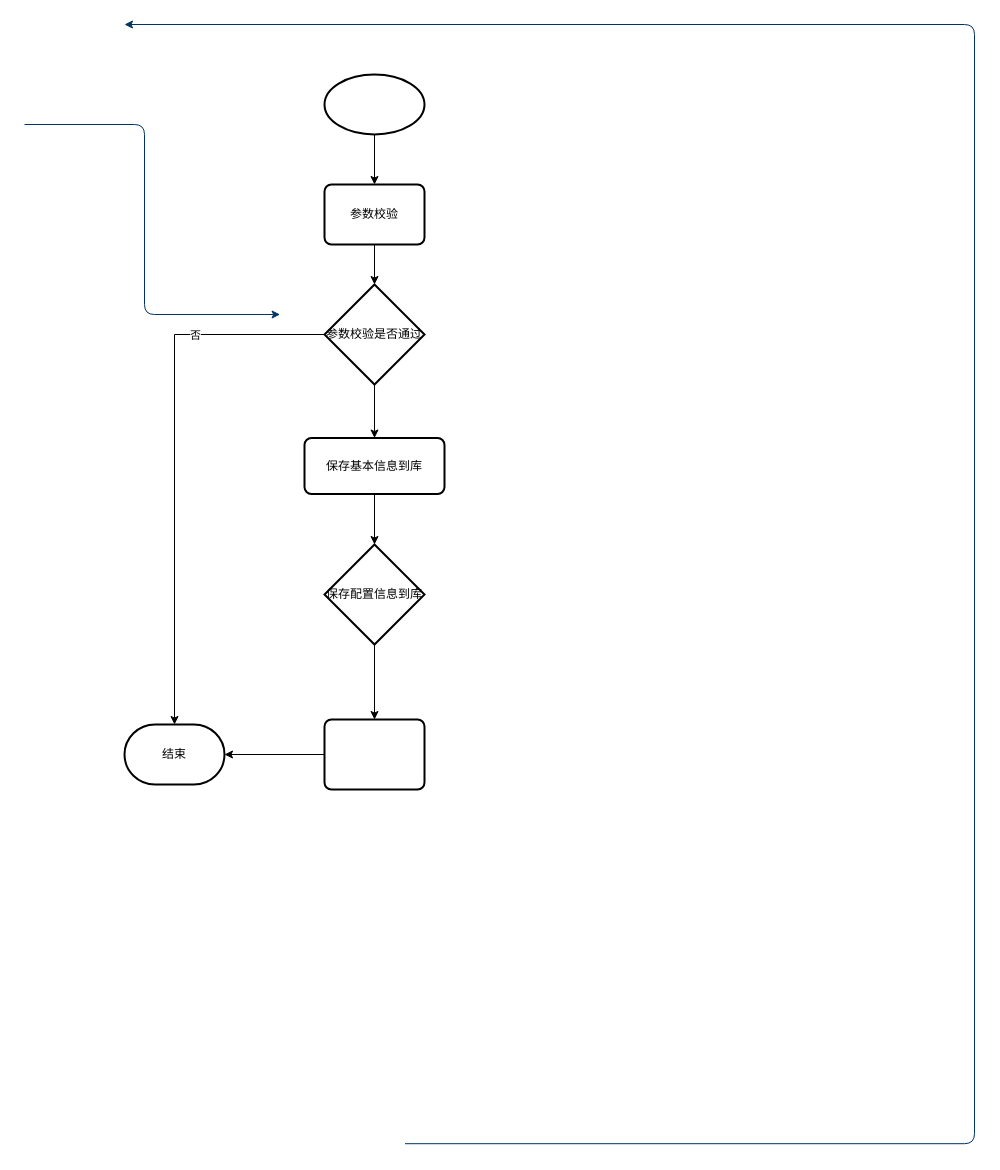
This 1000x1170 diagram has some shape labels left out. The shapes that lost their labels are listed below. From the top down, each one's box as (x1, y1, x2, y2) in pixels, then its label:
(323, 73, 425, 135): 开始
(323, 718, 425, 790): 创建任务
